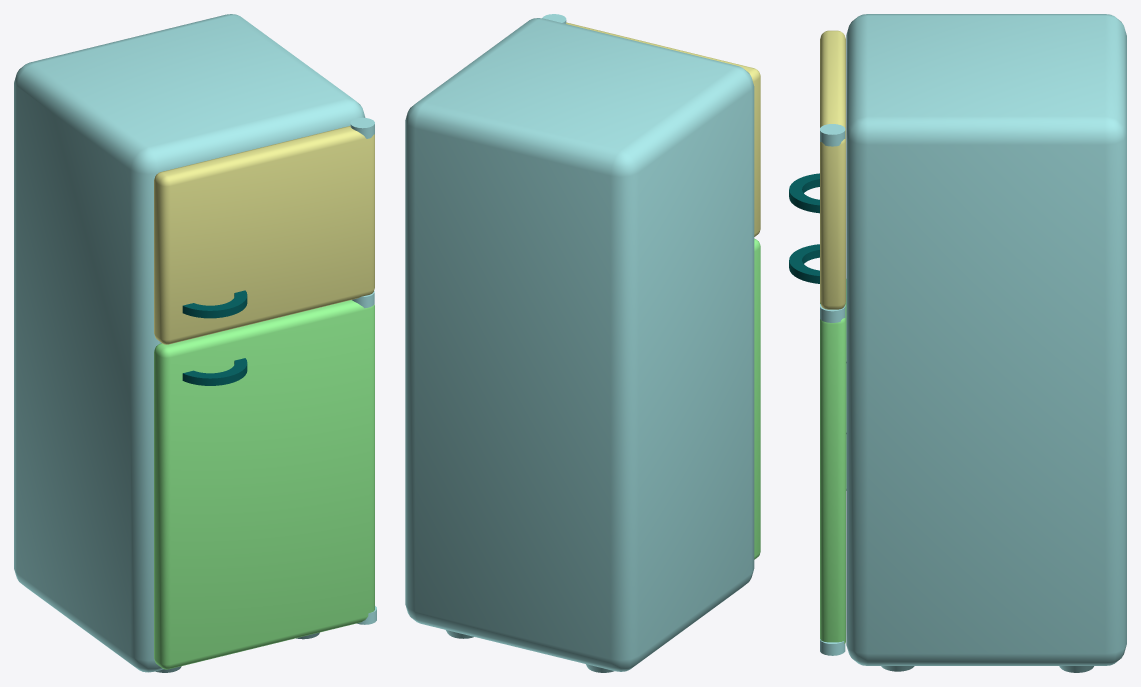
Rendered from refrigerator.FBX.
3 renders of one model, left to right at view 1: azimuth 30°, elevation 25°; view 2: azimuth 150°, elevation 25°; view 3: azimuth 270°, elevation 25°, orthographic. The views are drawn at different scales.
Visible parts, largest first — view 1: body, door_bottom, door_up, handle_up, handle_bottom; view 2: body, door_bottom, door_up; view 3: body, door_bottom, door_up, handle_bottom, handle_up.
Boxes of the visible parts, bbox=[...] form: body: bbox=[14, 14, 376, 672]; door_bottom: bbox=[154, 300, 374, 669]; door_up: bbox=[154, 126, 374, 344]; handle_up: bbox=[182, 290, 247, 318]; handle_bottom: bbox=[182, 358, 247, 385]; body: bbox=[405, 14, 754, 672]; door_bottom: bbox=[754, 238, 760, 559]; door_up: bbox=[566, 22, 760, 236]; body: bbox=[820, 14, 1126, 672]; door_bottom: bbox=[820, 279, 846, 643]; door_up: bbox=[820, 30, 845, 309]; handle_bottom: bbox=[789, 244, 819, 283]; handle_up: bbox=[789, 173, 819, 213].
Size of the model in its own units: 65 by 144 by 78.22.
